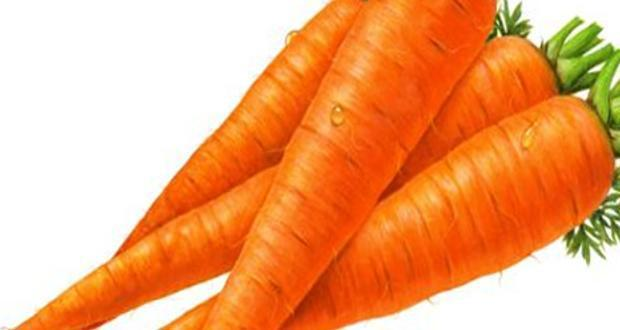carrot: (82, 2, 616, 303)
